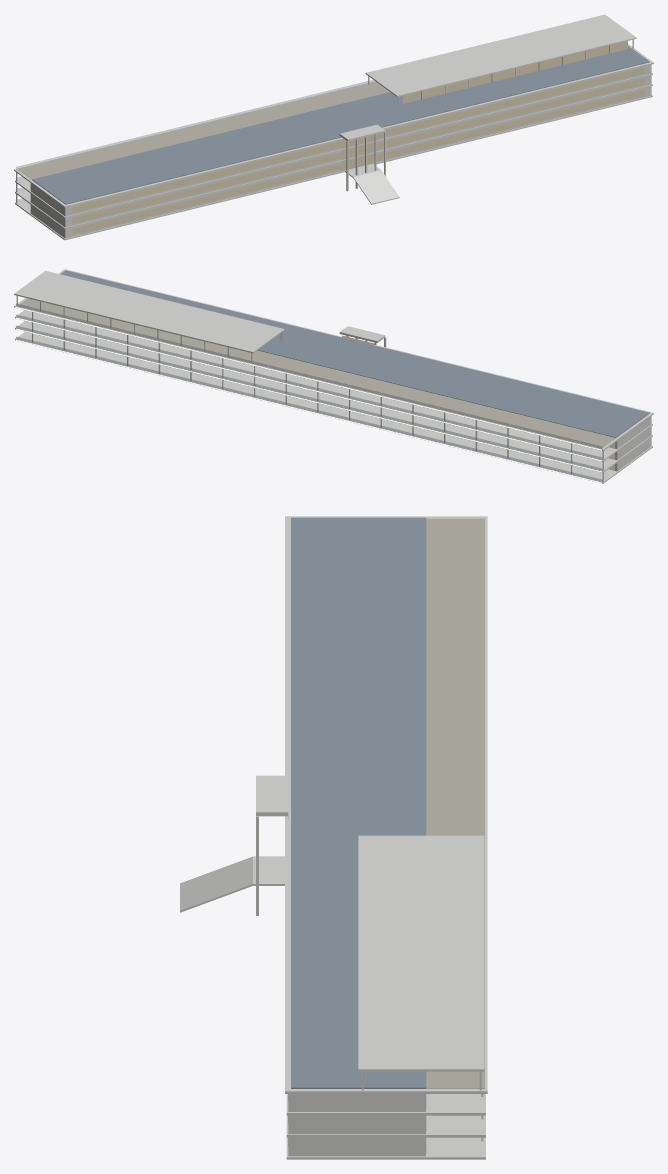
Rendered from mia_pit_upper.glb.
The picture shows the model from 3 angles, top to bottom: view 1: azimuth 30°, elevation 25°; view 2: azimuth 150°, elevation 25°; view 3: azimuth 270°, elevation 25°; orthographic projection. The views are drawn at different scales.
Parts seen in each view (by area): view 1: miami-paddock-club; view 2: miami-paddock-club; view 3: miami-paddock-club.
Part boxes in pixels (x1,y1,x2,y2): miami-paddock-club: (14,14,653,240); miami-paddock-club: (14,269,653,483); miami-paddock-club: (180,516,487,1159).
Bounding box in the file's own units: 252 × 24.1 × 56.85.
